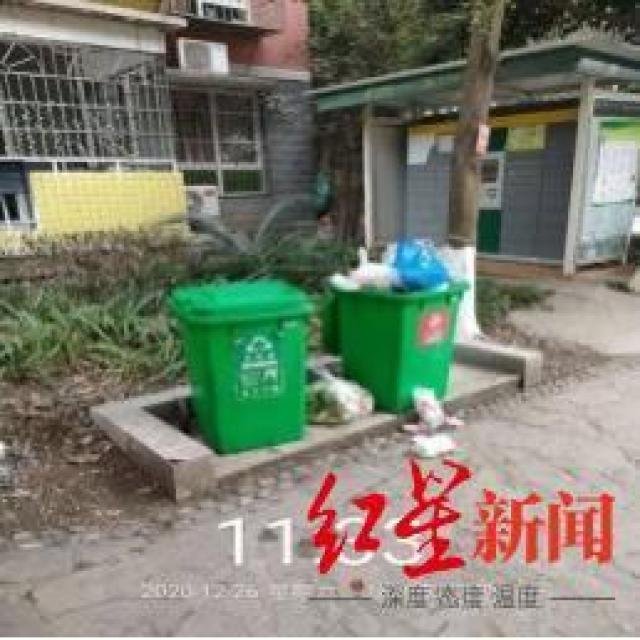garbage: (399, 385, 459, 457), (305, 367, 372, 422)
garbage_bin: (166, 274, 315, 452)
overflow: (320, 236, 466, 409)
